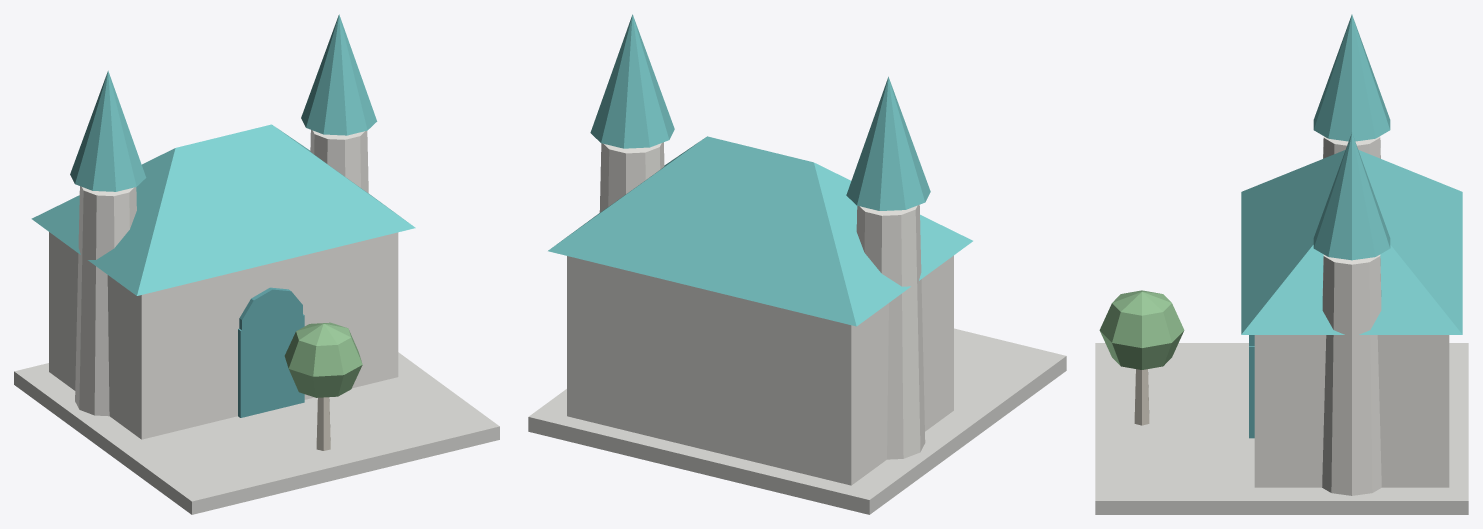
3 renders of one model, left to right at view 1: azimuth 30°, elevation 25°; view 2: azimuth 150°, elevation 25°; view 3: azimuth 270°, elevation 25°, orthographic. The views are drawn at different scales.
Parts seen in each view (by area): view 1: body; view 2: body; view 3: body.
Part boxes in pixels (x1,y1,x2,y2): body: [14, 14, 499, 514]; body: [528, 14, 1066, 514]; body: [1095, 14, 1468, 514].
Bounding box in the file's own units: 9.6 × 10.3 × 9.6.
